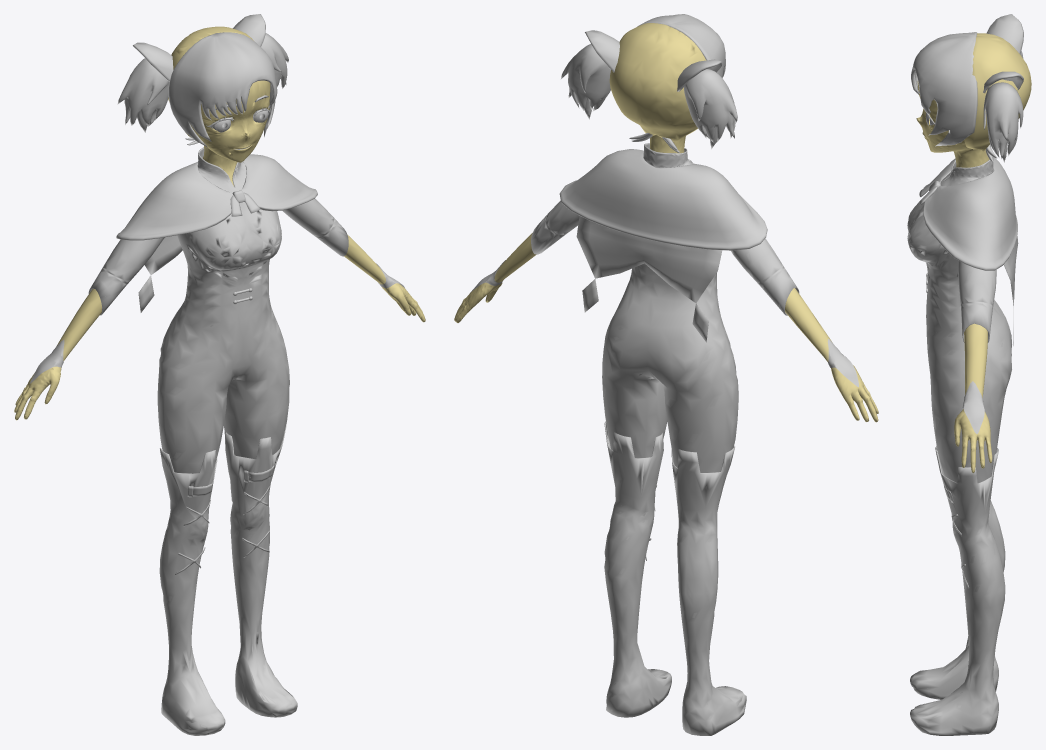
File: nina_mayaIn.obj
3 renders of one model, left to right at view 1: azimuth 30°, elevation 25°; view 2: azimuth 150°, elevation 25°; view 3: azimuth 270°, elevation 25°, orthographic. The views are drawn at different scales.
Visible parts, largest first — view 1: karada, Box005, maegami, 6_tousin, face, Box003, Box004, Plane009, ushirogami, hand_; view 2: karada, Box005, ushirogami, Plane009, Box003, 6_tousin, maegami, Box004, hand_; view 3: karada, Box005, maegami, ushirogami, 6_tousin, Box003, face, Box004, hand_, Plane009.
Part boxes in pixels (bbox=[...]): karada: bbox=[88, 147, 348, 735]; Box005: bbox=[116, 154, 317, 240]; maegami: bbox=[168, 32, 277, 147]; 6_tousin: bbox=[14, 235, 425, 420]; face: bbox=[190, 80, 270, 185]; Box003: bbox=[117, 33, 288, 132]; Box004: bbox=[133, 14, 265, 81]; Plane009: bbox=[138, 235, 182, 312]; ushirogami: bbox=[168, 26, 253, 137]; hand_: bbox=[30, 263, 404, 383]; karada: bbox=[531, 143, 799, 735]; Box005: bbox=[559, 149, 767, 250]; ushirogami: bbox=[609, 23, 706, 141]; Plane009: bbox=[576, 216, 722, 342]; Box003: bbox=[560, 44, 737, 149]; 6_tousin: bbox=[454, 233, 878, 422]; maegami: bbox=[637, 14, 725, 78]; Box004: bbox=[585, 30, 722, 91]; hand_: bbox=[470, 260, 858, 387]; karada: bbox=[907, 156, 1011, 735]; Box005: bbox=[923, 157, 1017, 270]; maegami: bbox=[911, 32, 977, 146]; ushirogami: bbox=[964, 33, 1031, 151]; 6_tousin: bbox=[954, 323, 992, 473]; Box003: bbox=[983, 51, 1023, 162]; face: bbox=[916, 81, 989, 167]; Box004: bbox=[983, 14, 1023, 93]; hand_: bbox=[962, 381, 984, 433]; Plane009: bbox=[1004, 236, 1018, 345].
Size of the model in its own units: 92.06 by 144 by 24.19.
